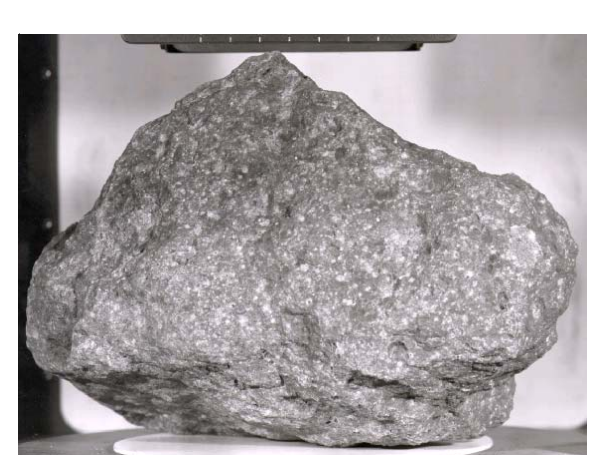Basalt: (74, 83, 543, 439)
